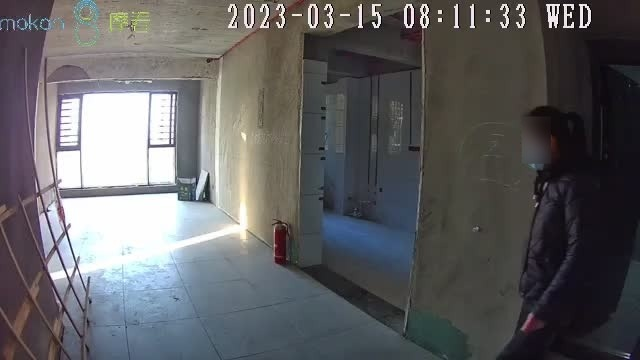people: (496, 106, 603, 359)
window: (56, 91, 179, 189)
